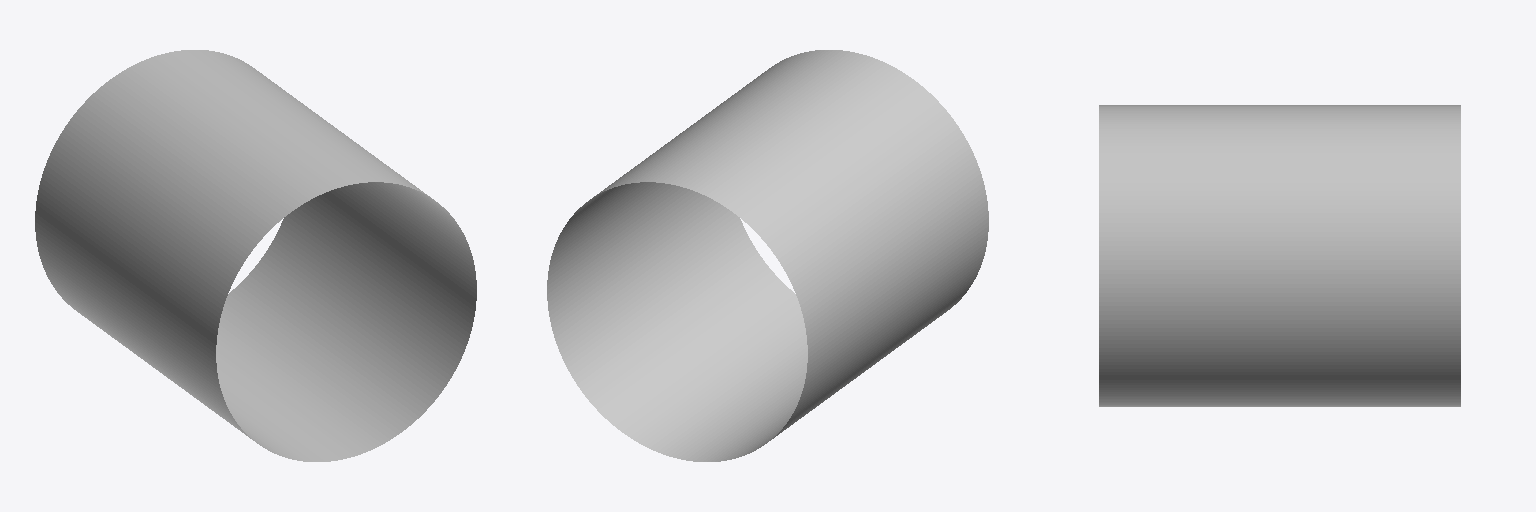
Rendered from tunnel_base.obj.
3 views of the same model, side by side, from view 1: azimuth 30°, elevation 25°; view 2: azimuth 150°, elevation 25°; view 3: azimuth 270°, elevation 25° (orthographic).
Parts seen in each view (by area): view 1: pCylinder1; view 2: pCylinder1; view 3: pCylinder1.
Boxes of the visible parts, x1,y1,x2,y2 form: pCylinder1: [35, 50, 476, 461]; pCylinder1: [547, 50, 988, 461]; pCylinder1: [1099, 105, 1460, 406].
Bounding box in the file's own units: 4.26 × 4.26 × 5.13.